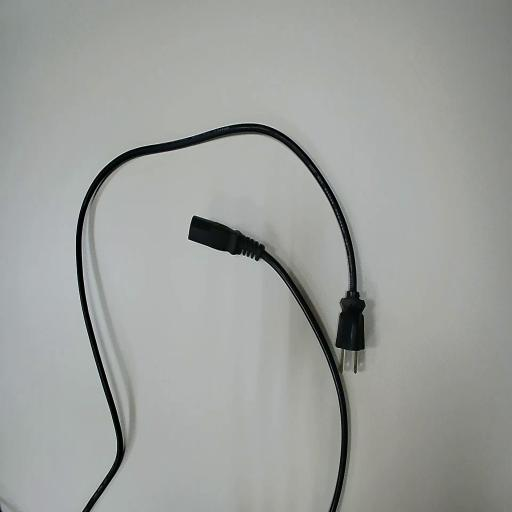wire: (77, 124, 364, 511), (190, 217, 347, 511)
